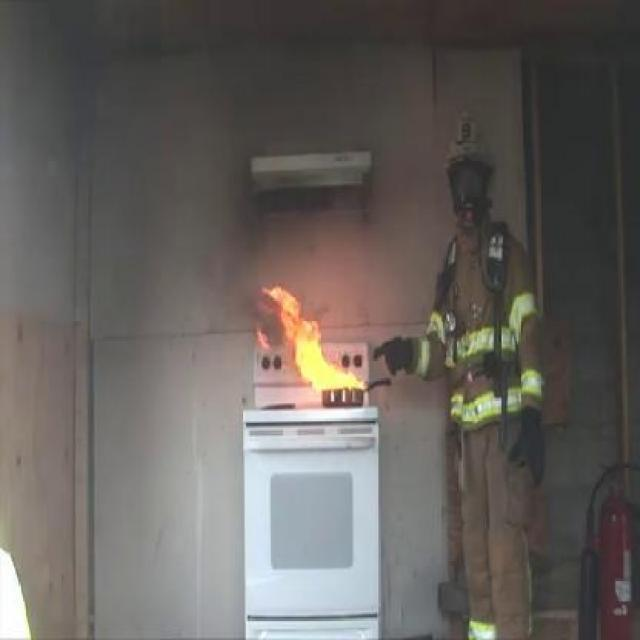fire: (255, 276, 368, 386)
